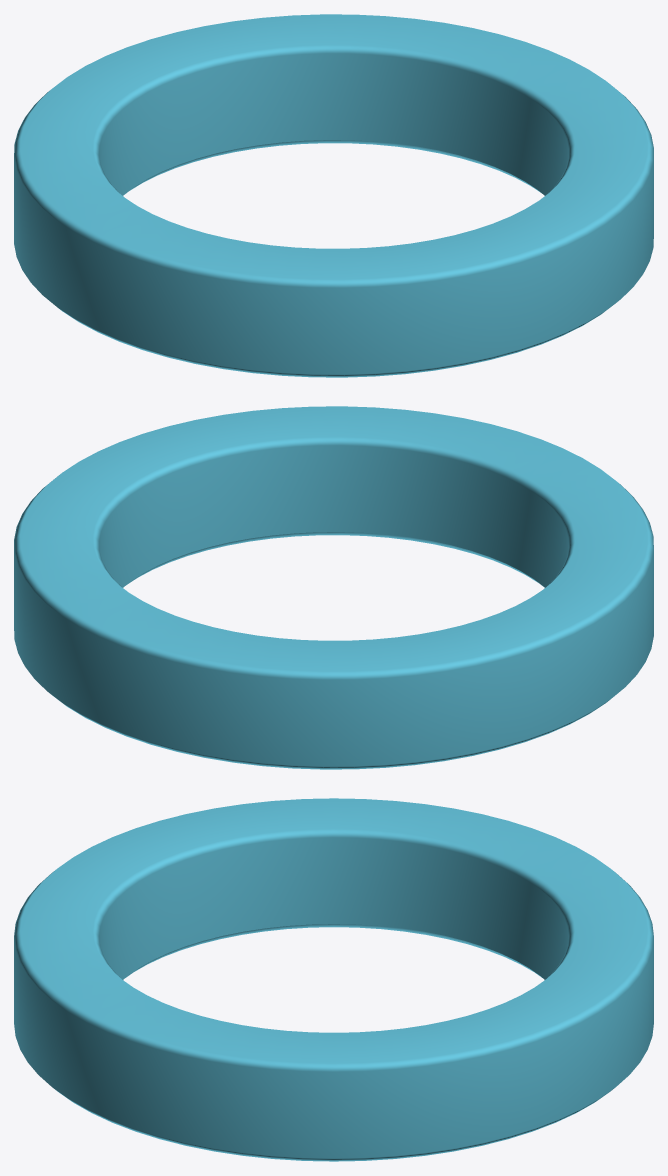
3 renders of one model, top to bottom at view 1: azimuth 30°, elevation 25°; view 2: azimuth 150°, elevation 25°; view 3: azimuth 270°, elevation 25°, orthographic.
Parts seen in each view (by area): view 1: seal_body; view 2: seal_body; view 3: seal_body.
Part boxes in pixels (x1,y1,x2,y2): seal_body: (14, 14, 653, 377); seal_body: (14, 406, 653, 769); seal_body: (14, 798, 653, 1161).
Bounding box in the file's own units: 0.075 × 0.0127 × 0.075.
